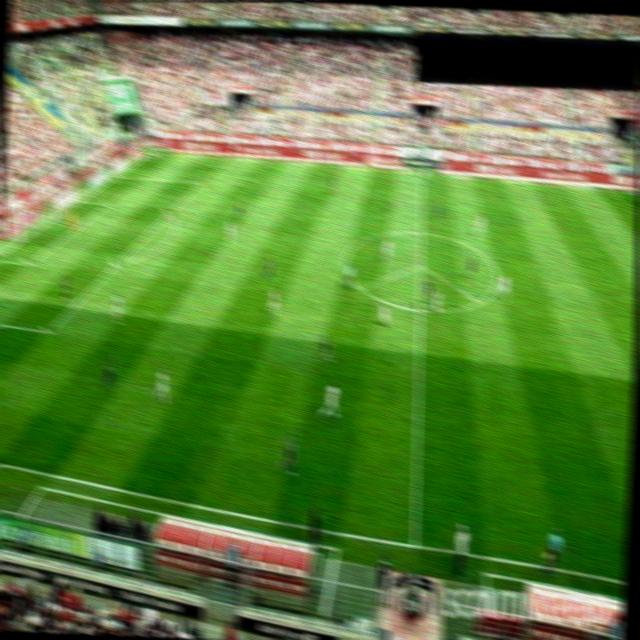bigarea_bottom_inner: (40, 326, 54, 337)
bigarea_top_inner: (193, 175, 208, 188)
bigarea_top_outter: (107, 172, 122, 183)
bottom_arc_area_intersection: (109, 257, 123, 268)
corner: (144, 148, 158, 159)
halfcircle_bottom: (411, 303, 427, 315)
halfcircle_top: (414, 225, 428, 237)
midline_bottom_intersection: (405, 536, 425, 554)
midline_top_intersection: (414, 166, 430, 178)
smallarea_bottom_inner: (21, 258, 36, 269)
smallarea_top_inner: (100, 196, 115, 208)
smallarea_top_outter: (69, 195, 84, 207)
top_arc_area_intersection: (161, 209, 175, 220)
